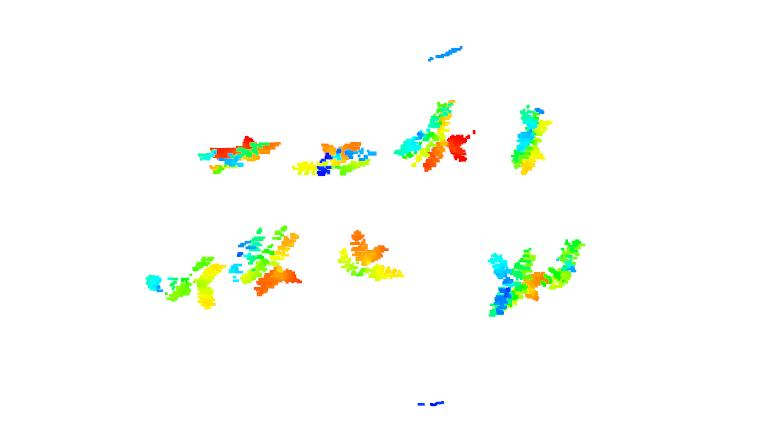chickpea: (486, 229, 585, 321), (391, 96, 473, 175), (230, 224, 306, 297), (143, 254, 225, 309), (333, 228, 405, 284), (196, 132, 282, 178), (289, 137, 377, 181), (505, 103, 553, 178)
